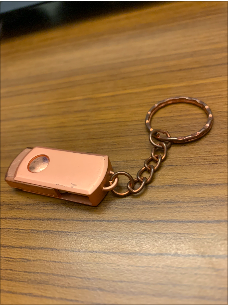object_name: (9, 89, 213, 209)
